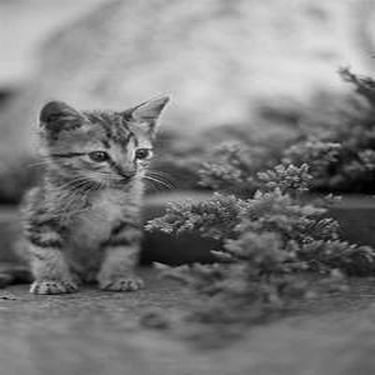cat: (11, 90, 171, 296)
